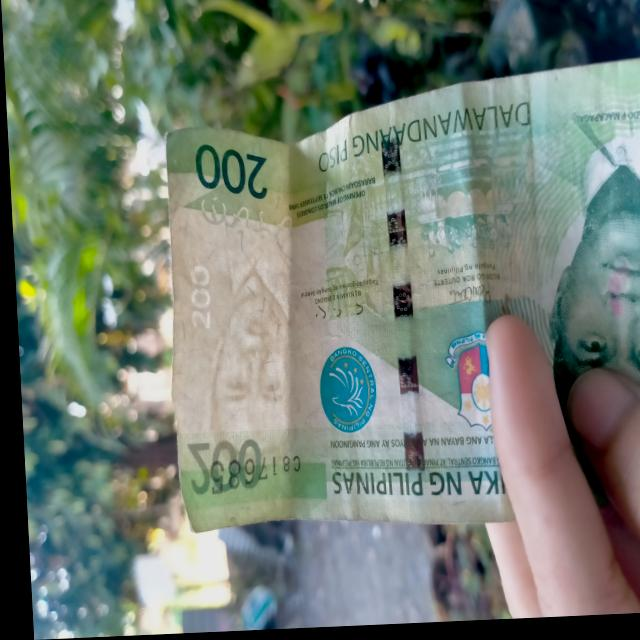security_thread: (375, 118, 420, 521)
see_through_mark: (194, 199, 292, 249)
value_watermark: (184, 263, 209, 336)
watermark: (199, 248, 307, 473)
